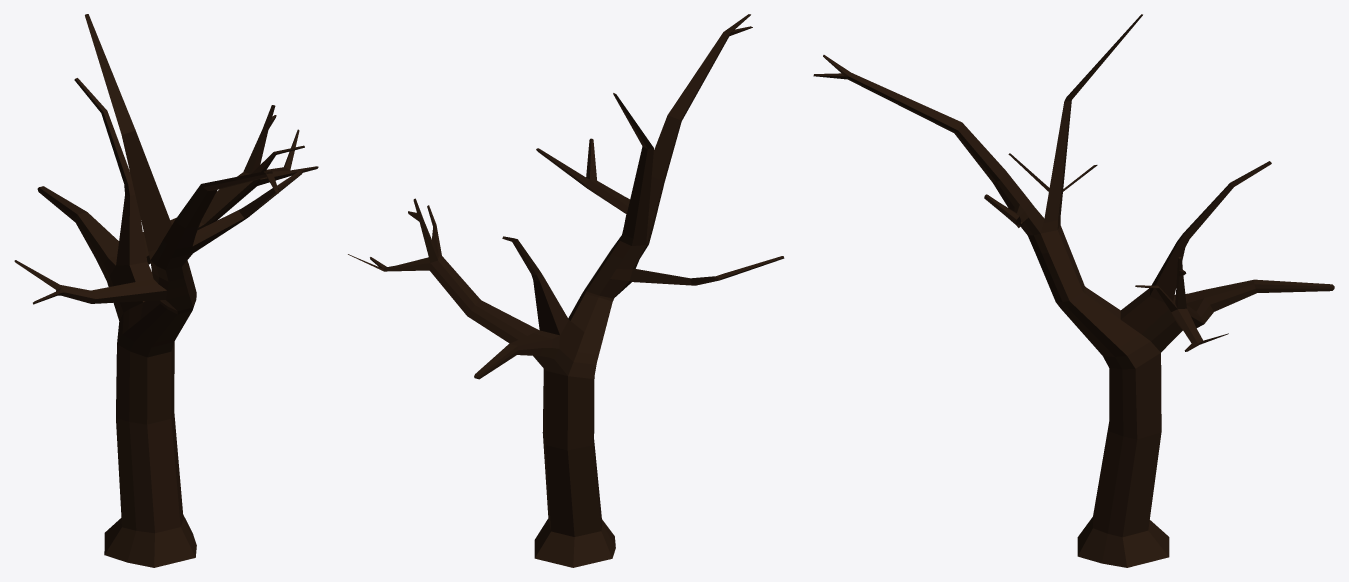
Rendered from trunkonly.gltf.
3 renders of one model, left to right at view 1: azimuth 30°, elevation 25°; view 2: azimuth 150°, elevation 25°; view 3: azimuth 270°, elevation 25°, orthographic. The views are drawn at different scales.
Visible parts, largest first — view 1: Cube; view 2: Cube; view 3: Cube.
Boxes of the visible parts, left/top/right/bottom form: Cube: left=14, top=14, right=318, bottom=567; Cube: left=348, top=14, right=784, bottom=567; Cube: left=813, top=14, right=1334, bottom=567.
Bounding box in the file's own units: 25.82 × 34.77 × 32.3.
